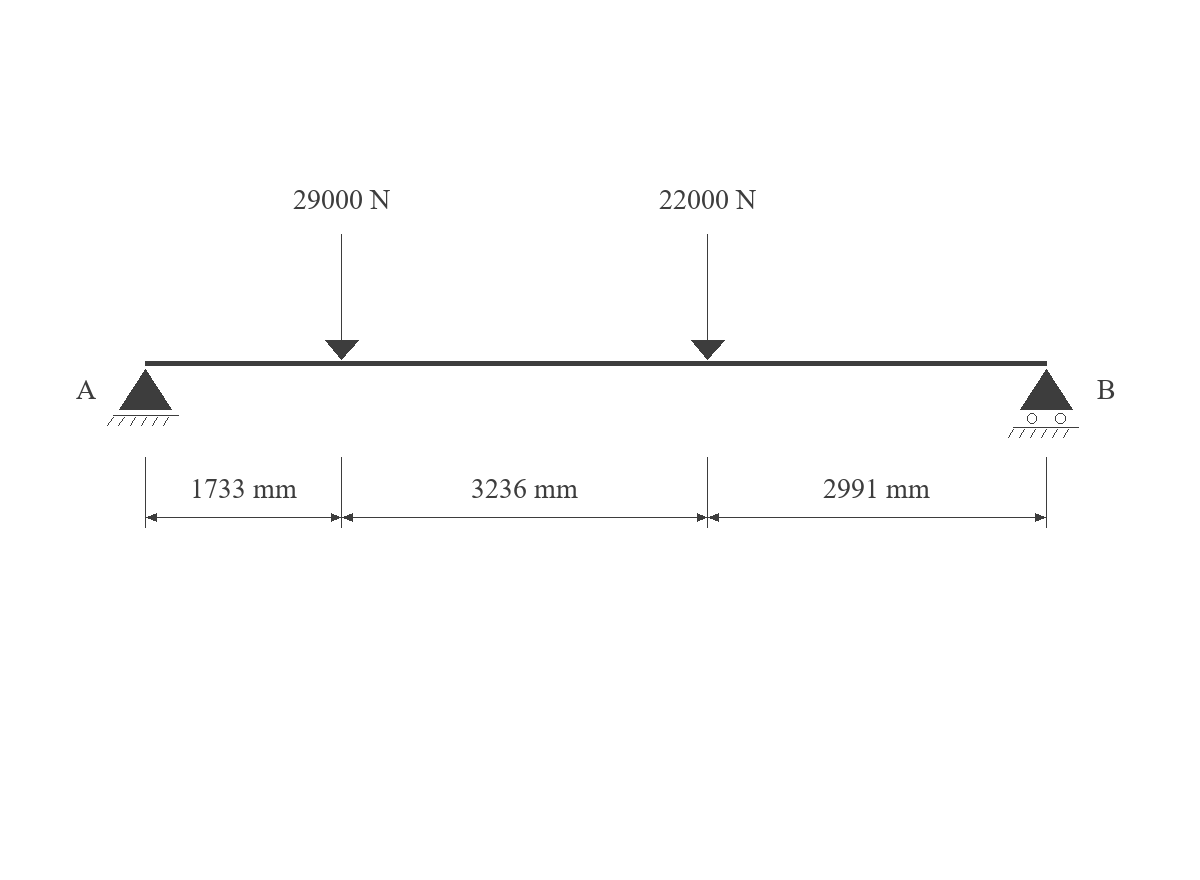pin_support: (107, 369, 179, 426)
point_load: (325, 234, 359, 360), (691, 234, 725, 360)
roller_support: (1008, 369, 1079, 438)
